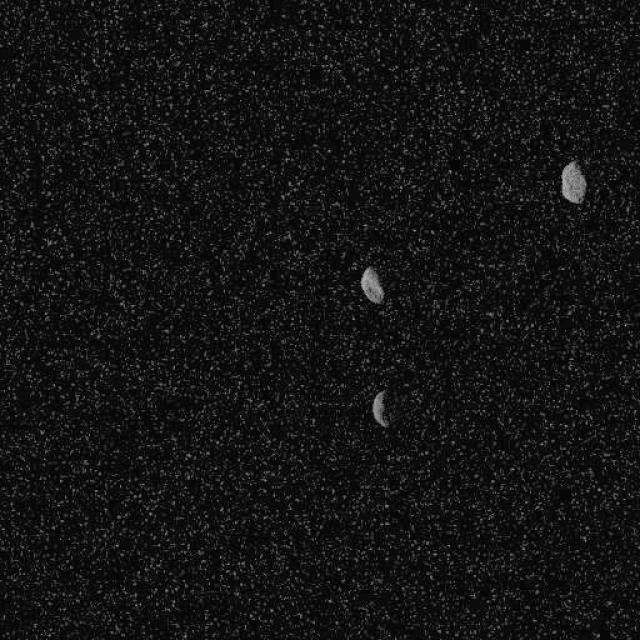D2: (559, 158, 586, 204), (358, 265, 384, 304), (370, 388, 389, 428)
